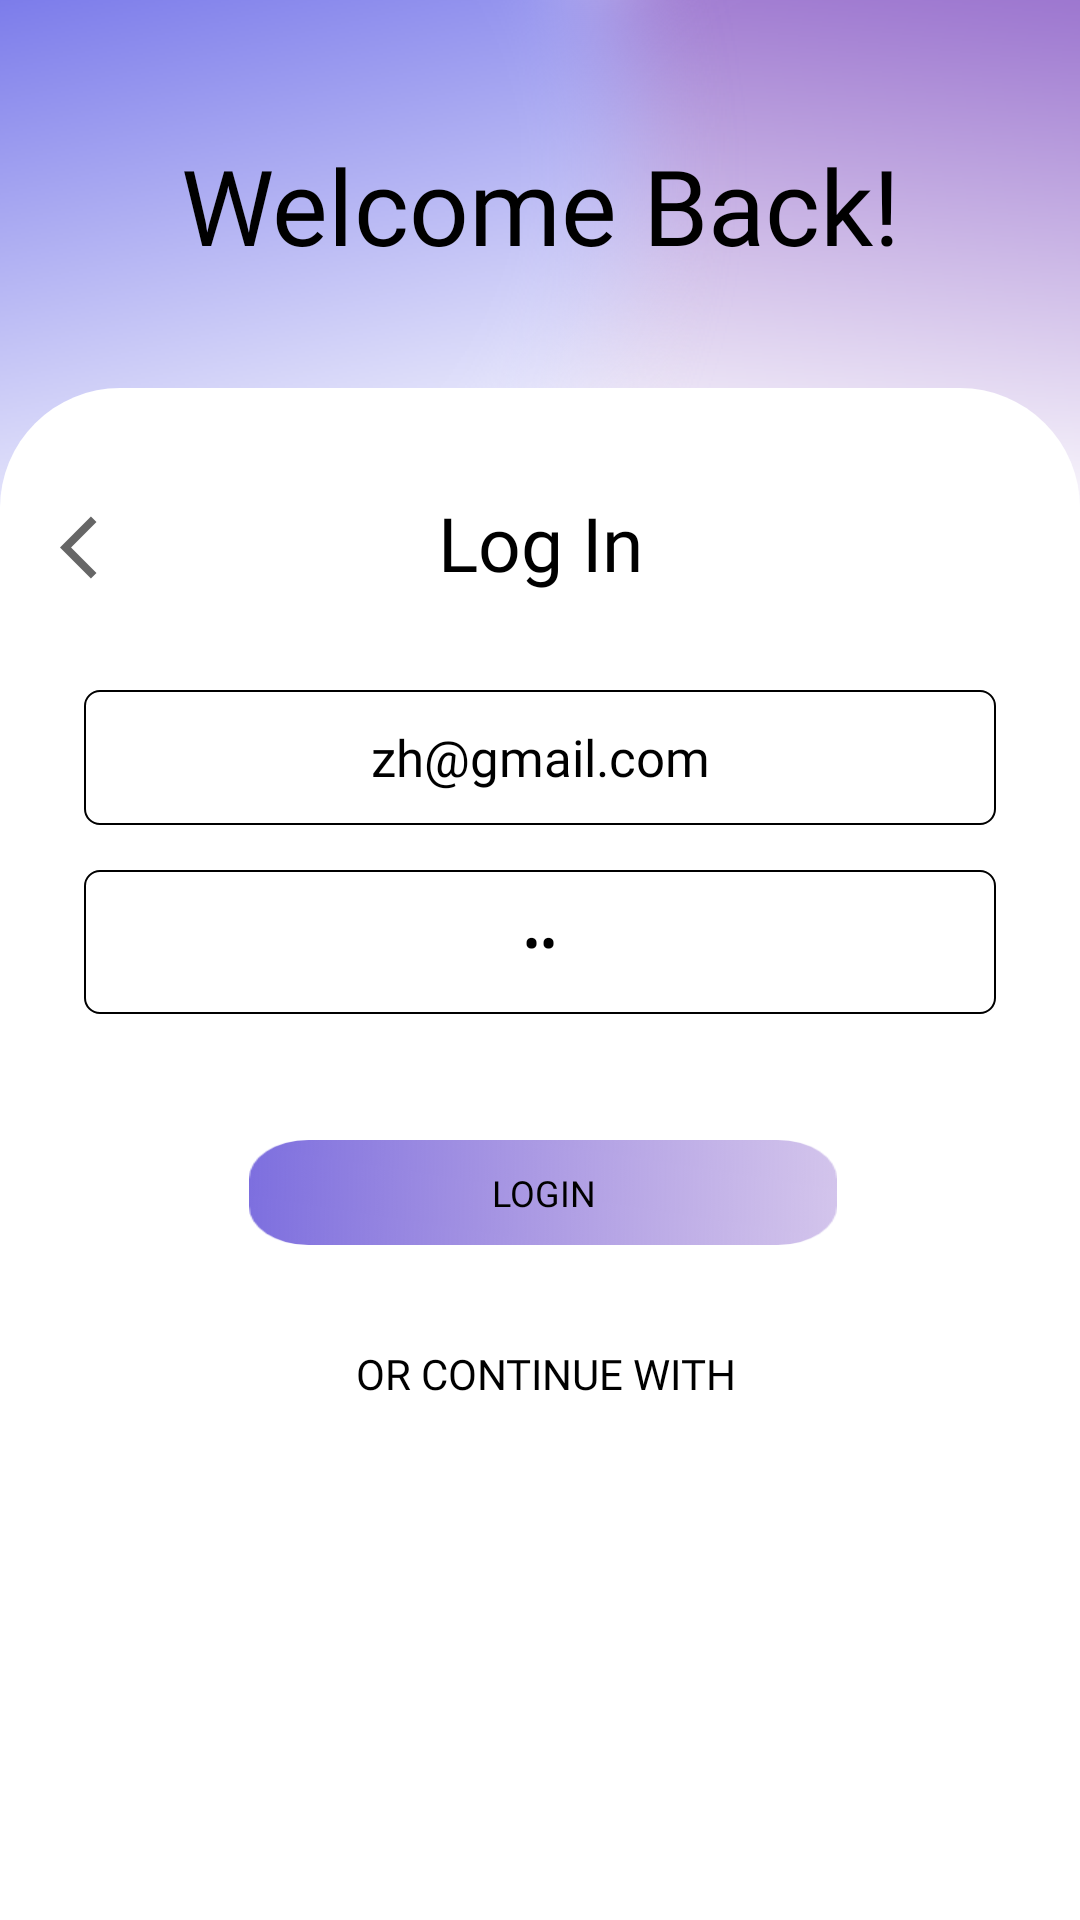

Icons on this 1080x1920 Android screen, each with its box as (left=x1, top=y1, right=x2, bottom=y2):
backicon: (left=60, top=516, right=96, bottom=579)
